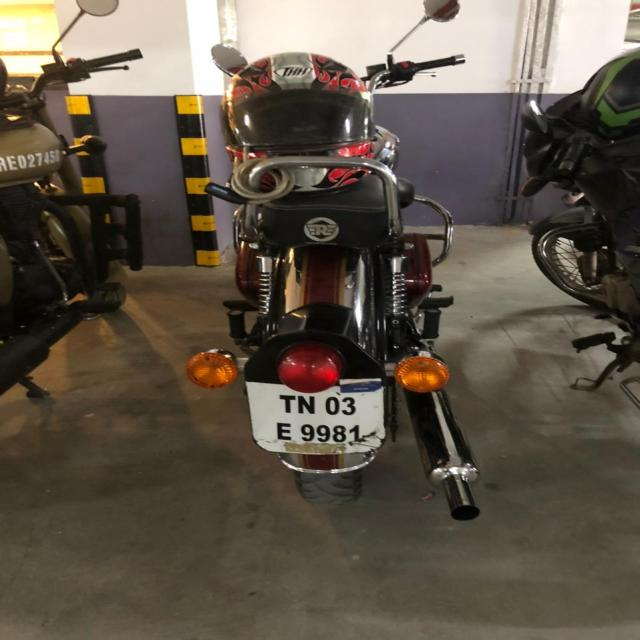number plate: (244, 378, 386, 456)
